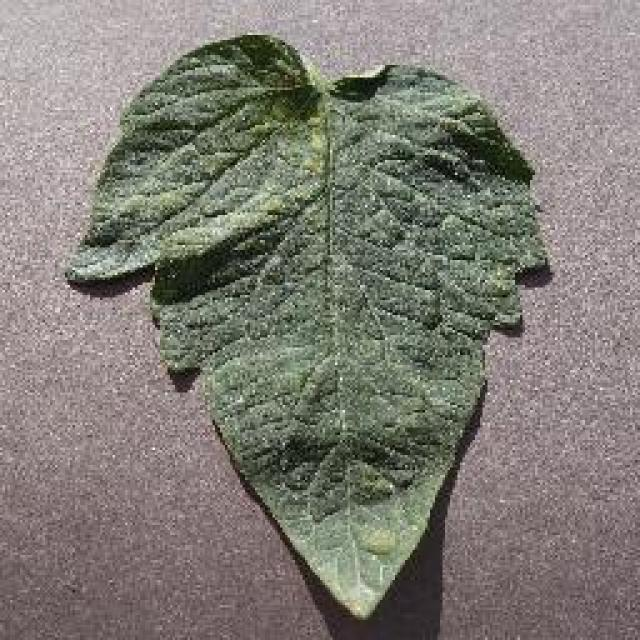Tomato___Spider_mites Two-spotted_spider_mite: (65, 35, 545, 615)
